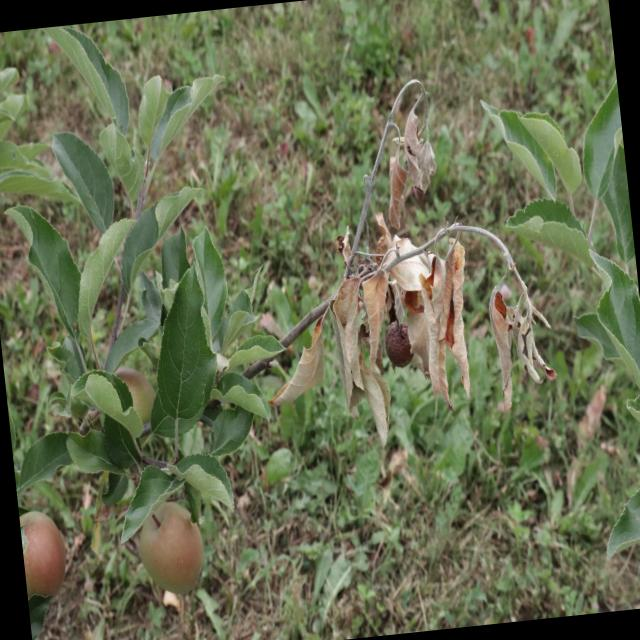-FireBlight-: (270, 91, 567, 454)
